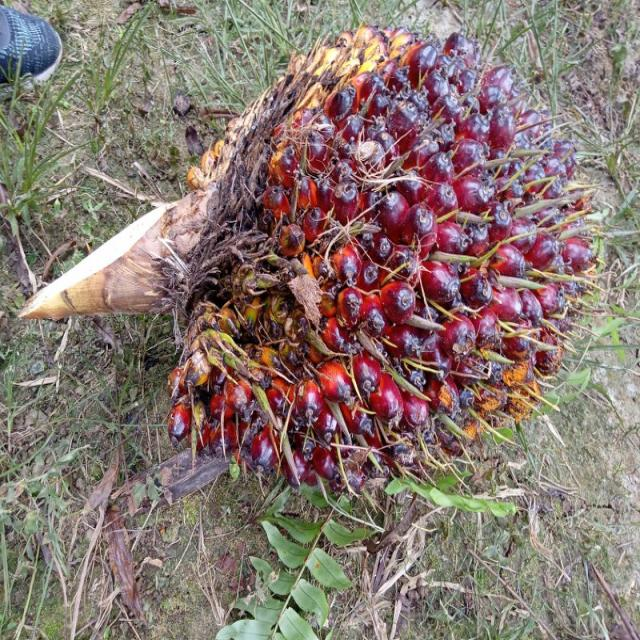fraksi 1: (159, 22, 592, 490)
